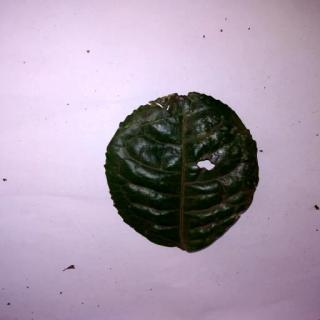Anthracnose: (108, 91, 262, 253)
